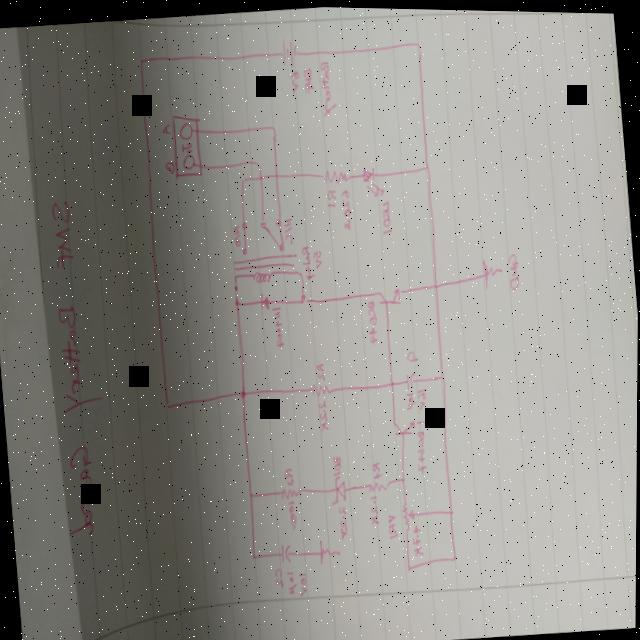capacitor: (279, 540, 293, 561), (405, 367, 417, 388)
crossover: (272, 168, 279, 178), (257, 171, 264, 179)
diode: (360, 161, 386, 196), (329, 472, 348, 503), (258, 288, 270, 309)
ground: (480, 253, 505, 287), (318, 534, 342, 562)
junction: (269, 120, 278, 137), (251, 156, 262, 169), (300, 287, 308, 304), (233, 296, 241, 307), (423, 158, 430, 169), (165, 398, 172, 409), (240, 386, 247, 396), (248, 489, 255, 498), (415, 37, 422, 46), (239, 173, 246, 181), (432, 279, 439, 287), (251, 551, 257, 560), (439, 369, 445, 378), (448, 505, 455, 512), (451, 552, 458, 559), (389, 375, 395, 383), (442, 417, 448, 425), (406, 561, 412, 569), (139, 55, 145, 63), (401, 473, 406, 479)
resistor: (320, 164, 350, 183), (400, 499, 417, 530), (310, 377, 332, 396), (367, 475, 390, 490), (280, 483, 301, 498)
source: (278, 33, 299, 67)
terminal: (177, 119, 193, 138), (181, 151, 196, 168)
text: (40, 194, 117, 537), (316, 56, 338, 115), (365, 297, 379, 343), (414, 426, 428, 472), (271, 303, 285, 347), (339, 185, 353, 228), (300, 241, 315, 278), (410, 520, 425, 554), (507, 249, 520, 288), (379, 195, 392, 232), (317, 396, 330, 429), (338, 501, 349, 538), (368, 491, 381, 522), (286, 497, 299, 528), (302, 63, 314, 93), (282, 214, 294, 243), (288, 67, 301, 92), (387, 510, 399, 536), (286, 567, 298, 592), (416, 383, 428, 407), (404, 387, 418, 407), (298, 568, 309, 593), (274, 564, 285, 586), (324, 185, 336, 205), (332, 451, 342, 475), (283, 464, 295, 484), (312, 246, 323, 267), (232, 222, 242, 245), (371, 458, 383, 477), (316, 359, 326, 379), (405, 347, 419, 360), (180, 138, 193, 152), (164, 158, 175, 173), (161, 120, 171, 134)
transistor: (377, 282, 403, 304), (392, 413, 419, 433)
